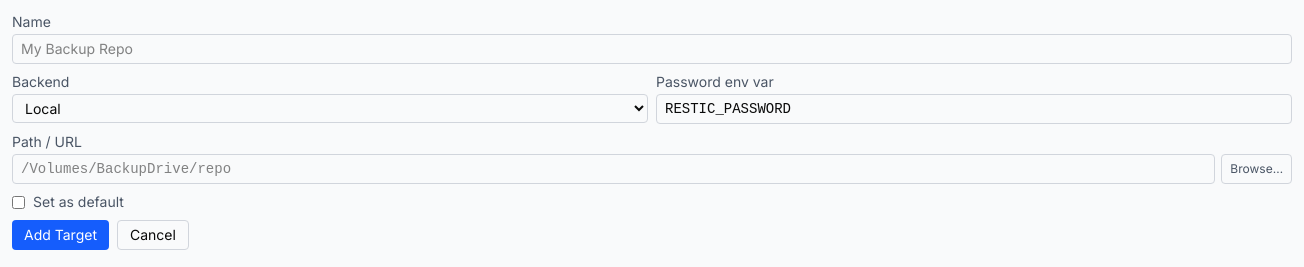
Test: StorageTargetForm › does not show Browse button for sftp backend
Step 1. Select "SFTP" in the dropdown → (330, 108), box [12, 94, 648, 123]
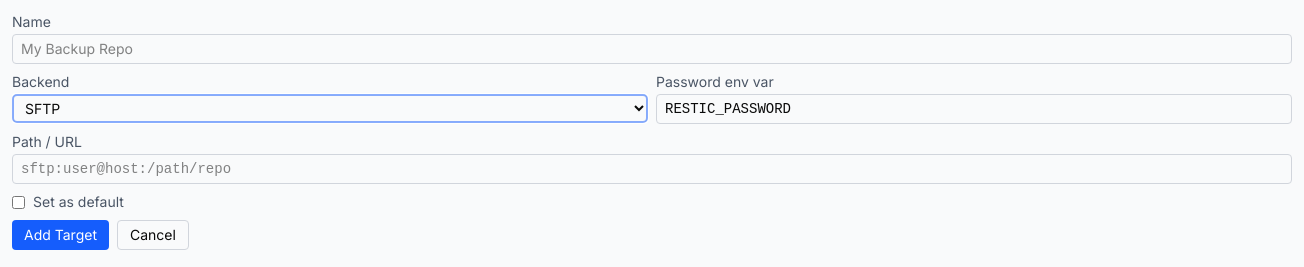
Expected: the button "Browse" is gone
